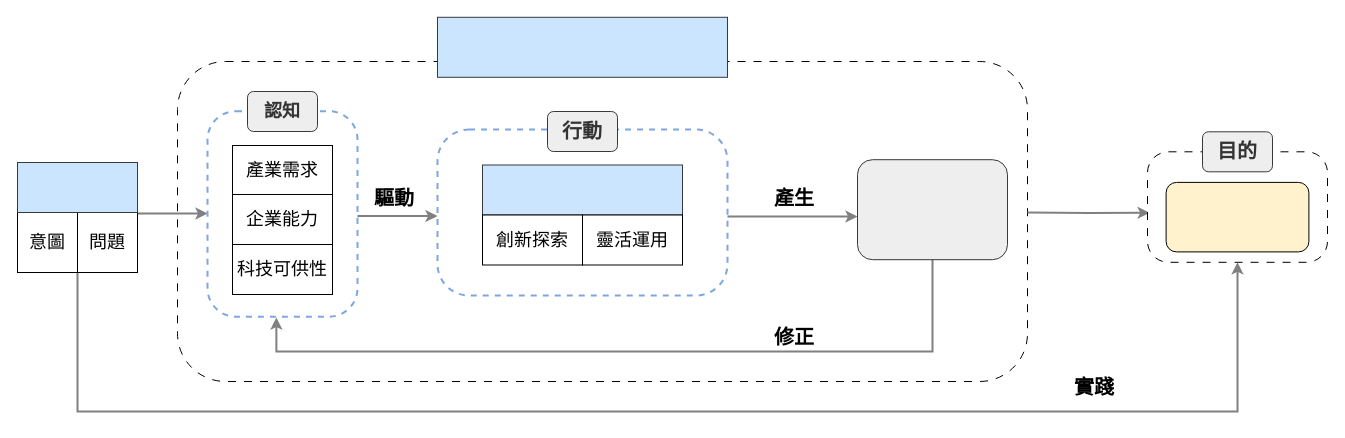
Image size: 1345x438. Some labels were removed from this diagram. Each missing label, with the centre of its shape:
"平台階段性 應用成果" goes at point (932, 209).
"數位紡織 產業生態系" goes at point (1237, 216).
"科技可供性制定" goes at point (582, 46).
"能動性" goes at point (77, 187).
"雙元性能力實現可供性" goes at point (582, 189).
